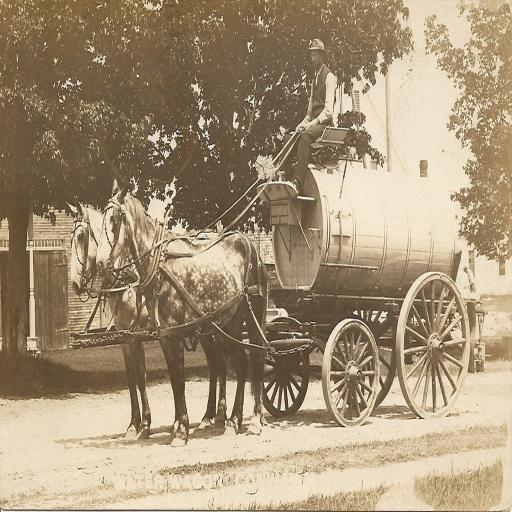Horse: (94, 176, 267, 446), (68, 196, 230, 440)
